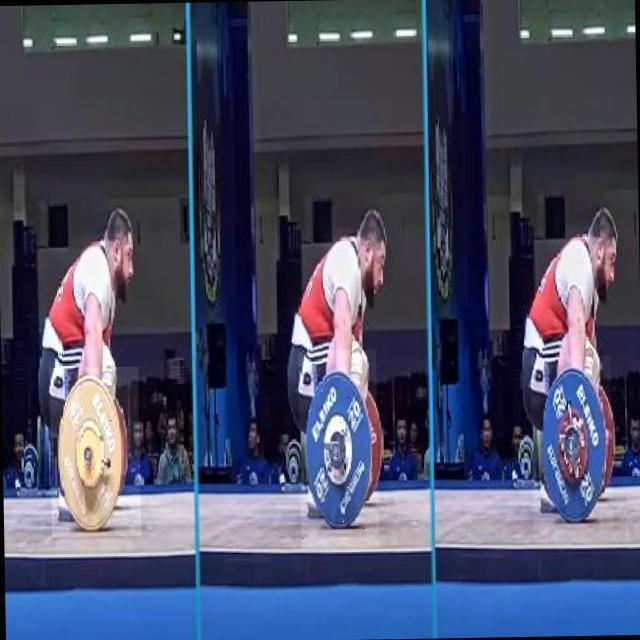barbell: (298, 350, 380, 549), (50, 367, 142, 538), (531, 356, 614, 532)
